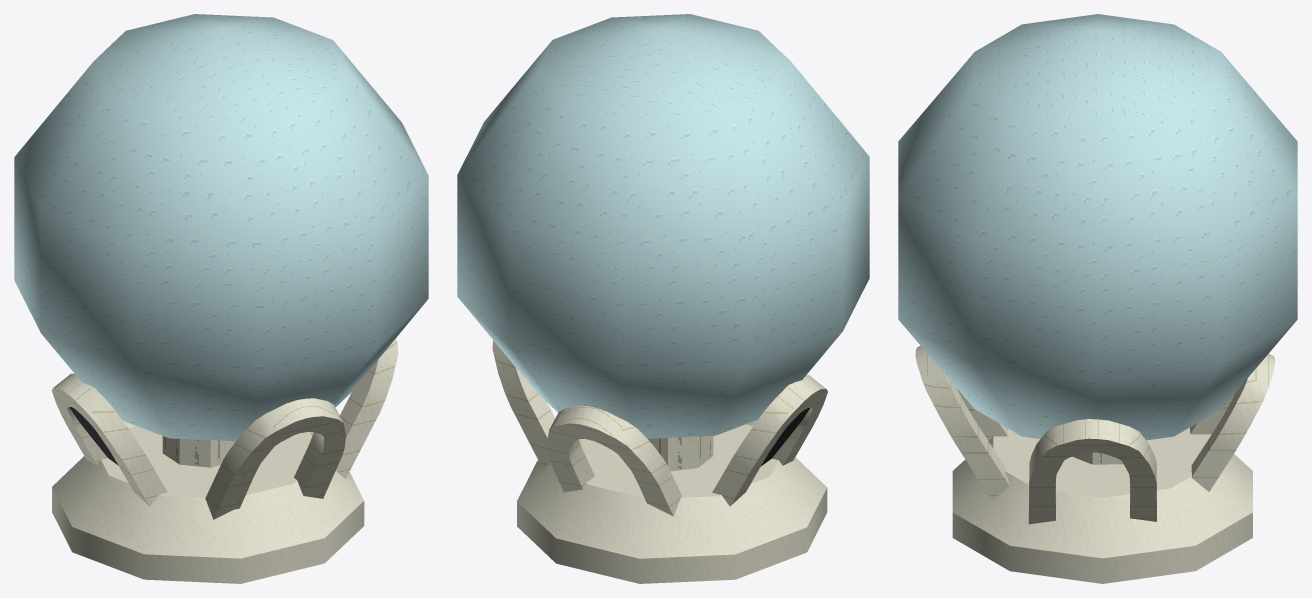
Rendered from water_residential2.fbx.
3 views of the same model, side by side, from view 1: azimuth 30°, elevation 25°; view 2: azimuth 150°, elevation 25°; view 3: azimuth 270°, elevation 25° (orthographic).
Parts seen in each view (by area): view 1: Plane_1; view 2: Plane_1; view 3: Plane_1.
Part boxes in pixels (bbox=[...]): Plane_1: bbox=[14, 14, 428, 583]; Plane_1: bbox=[457, 14, 869, 583]; Plane_1: bbox=[898, 14, 1297, 583].
Bounding box in the file's own units: 1724 × 2284 × 1639.
Materials: 5 (4 with a texture image).
